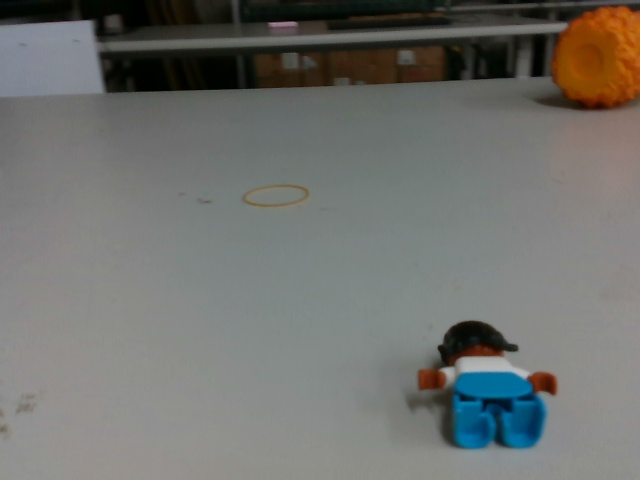people: (413, 317, 562, 455)
